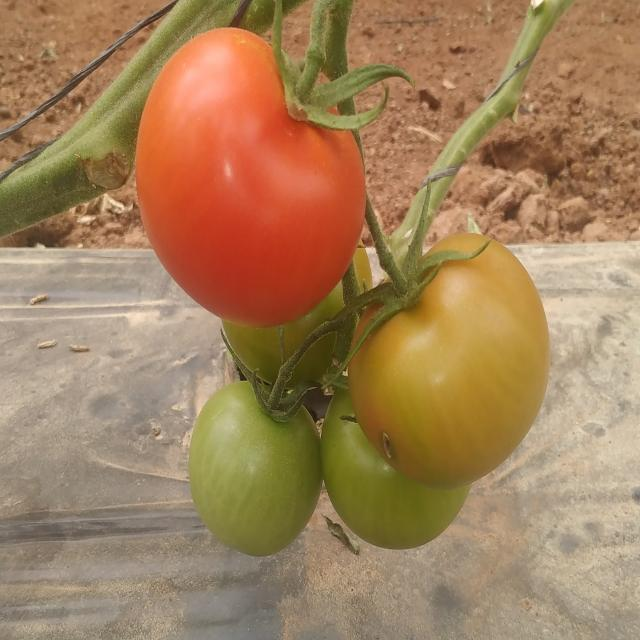Ripe Tomato: (132, 27, 365, 316)
Unripe Tomato: (356, 223, 548, 468), (324, 406, 470, 556), (186, 391, 318, 554), (220, 310, 352, 396)
